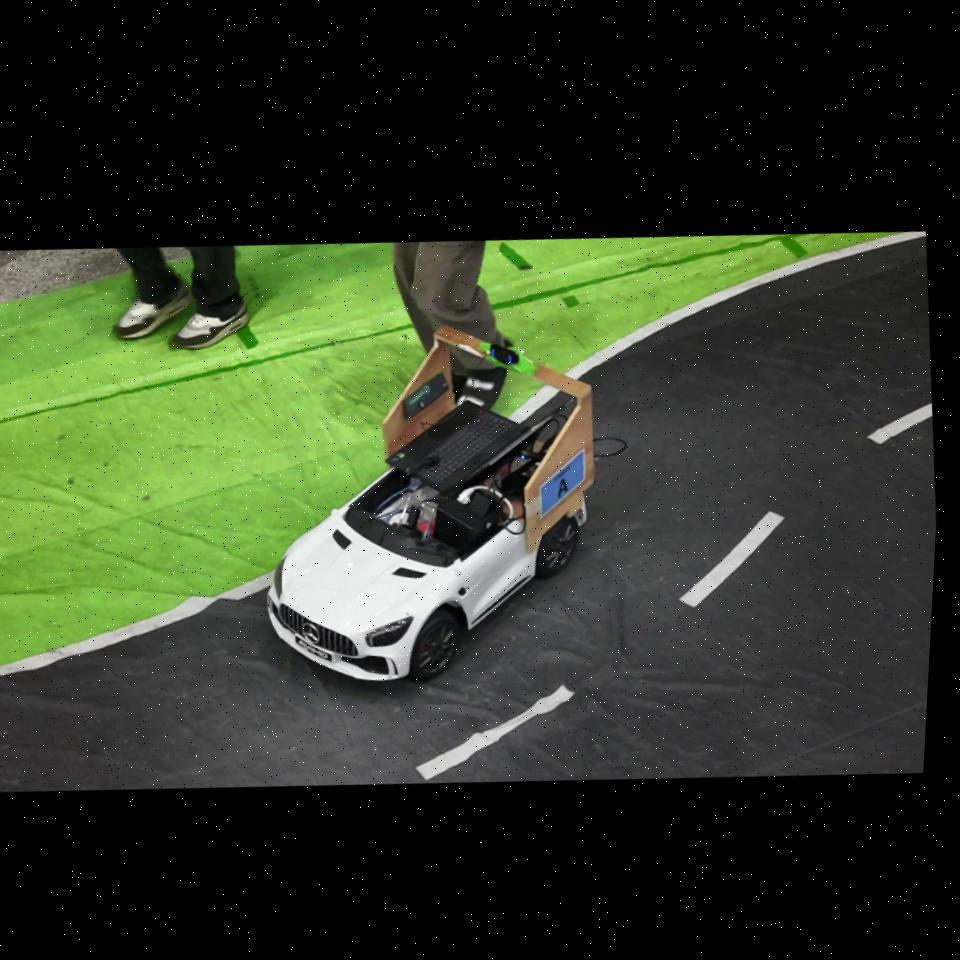broken_line: (417, 685, 574, 779), (680, 511, 783, 606), (868, 403, 932, 444)
